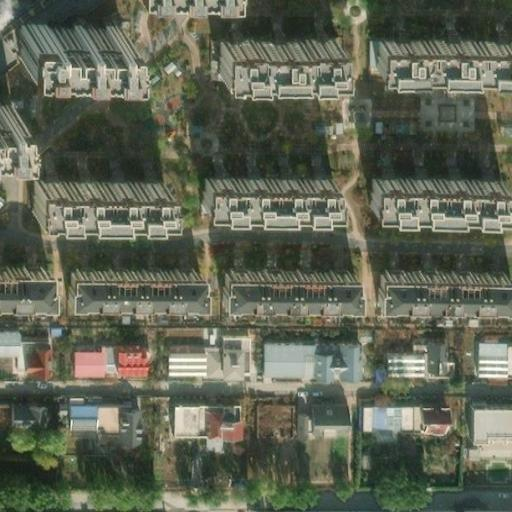building: (35, 177, 170, 222), (370, 29, 512, 71), (200, 166, 334, 208), (363, 167, 495, 209), (60, 262, 197, 300), (210, 26, 330, 68), (216, 264, 349, 300), (368, 267, 504, 301), (163, 324, 246, 375), (12, 18, 117, 55), (65, 337, 140, 373), (460, 406, 512, 456), (384, 337, 454, 371), (168, 402, 233, 438), (309, 335, 353, 382), (257, 338, 309, 374), (59, 391, 110, 427), (358, 433, 414, 465), (467, 333, 512, 371), (355, 401, 412, 426), (408, 499, 511, 512), (110, 398, 135, 450), (460, 456, 512, 480), (306, 396, 342, 422), (18, 340, 43, 376), (412, 401, 447, 425), (4, 400, 35, 427), (291, 411, 306, 435)
